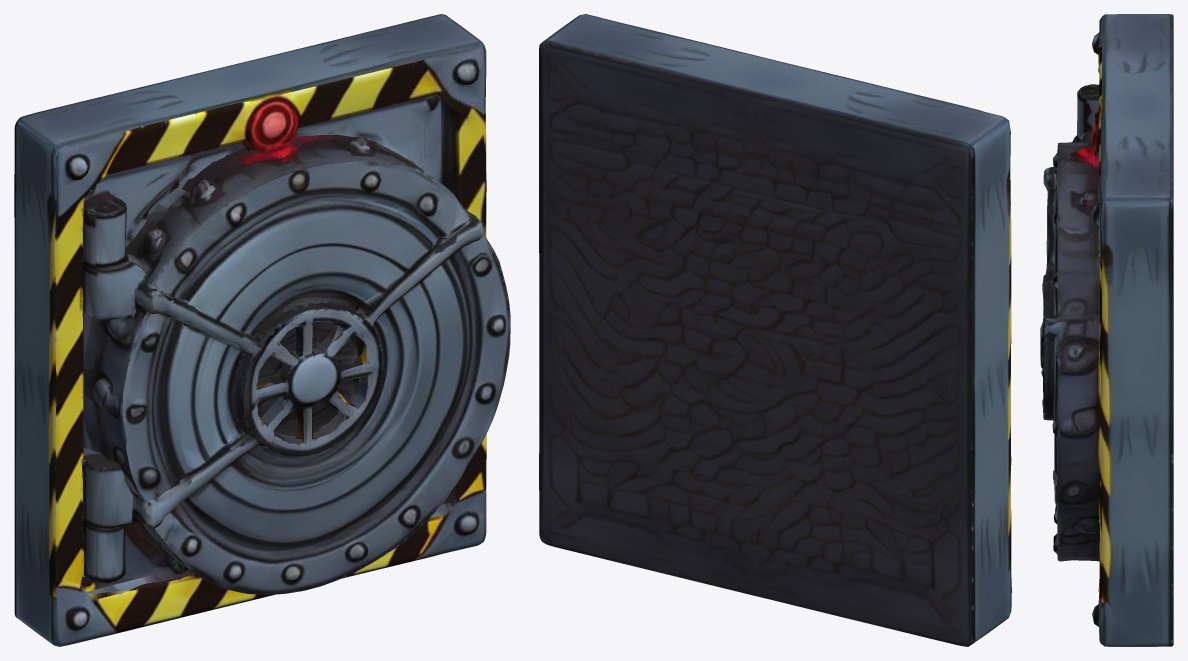
Rendered from vault_door.glb.
3 views of the same model, side by side, from view 1: azimuth 30°, elevation 25°; view 2: azimuth 150°, elevation 25°; view 3: azimuth 270°, elevation 25° (orthographic). The views are drawn at different scales.
Parts seen in each view (by area): view 1: vault_door; view 2: vault_door; view 3: vault_door.
Boxes of the visible parts, bbox=[...] form: vault_door: bbox=[14, 14, 510, 646]; vault_door: bbox=[539, 14, 1011, 646]; vault_door: bbox=[1040, 14, 1173, 646].
Size of the model in its own units: 0.9024 by 1 by 0.2686.
1 material, 1 textured.
